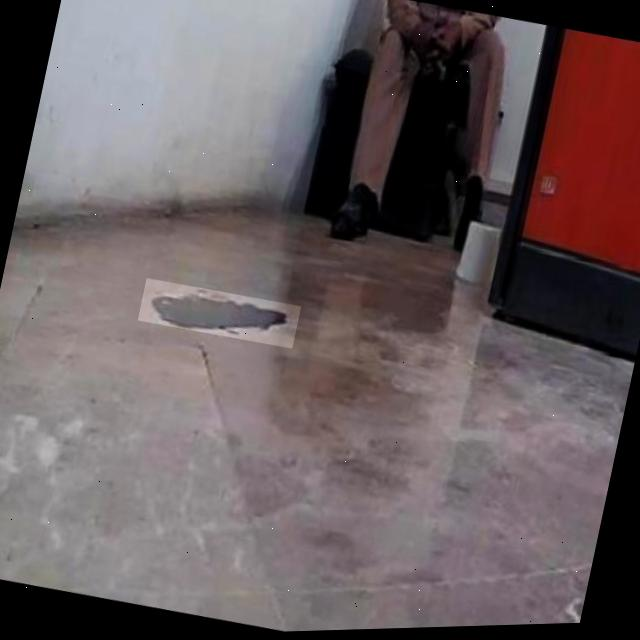spillage: (141, 294, 295, 335)
